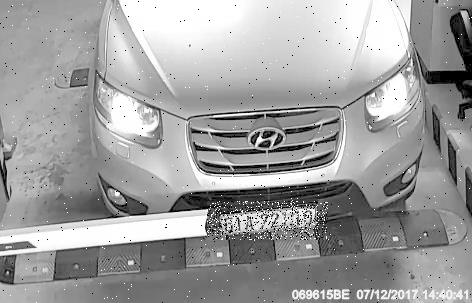License-plate: (209, 202, 330, 241)
